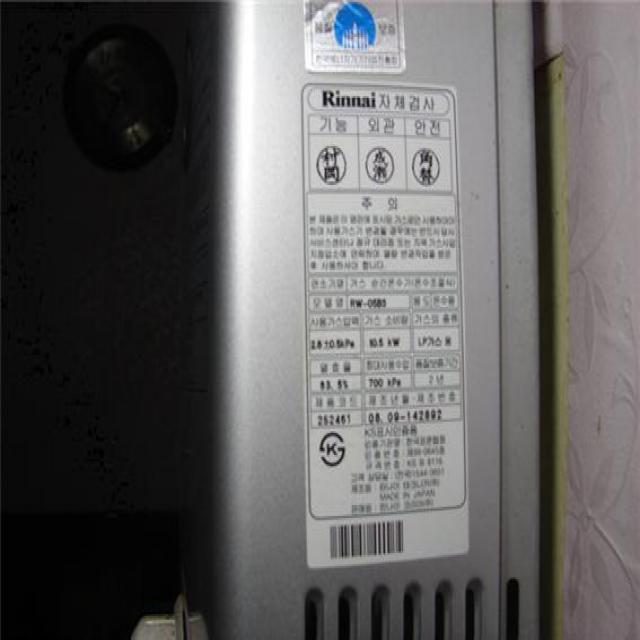Boiler: (145, 0, 580, 640)
